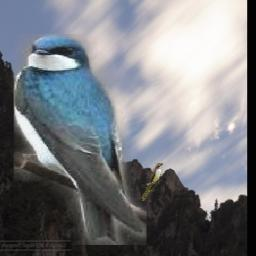Cuckoo: (142, 163, 163, 201)
Swallow: (14, 35, 147, 246)
